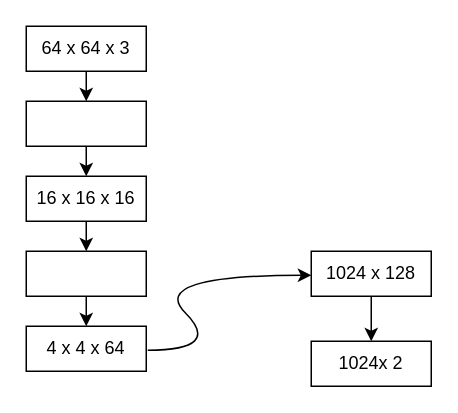
Some shapes in this 458 by 413 pixel diagram are drawn without their labels. The shapes that lost their labels are listed below. From the top down, each one's box as (x1, y1, x2, y2) in pixels, then its label:
(25, 100, 146, 146): 32 x 32 x 8
(25, 250, 146, 296): 8 x 8 x 32
